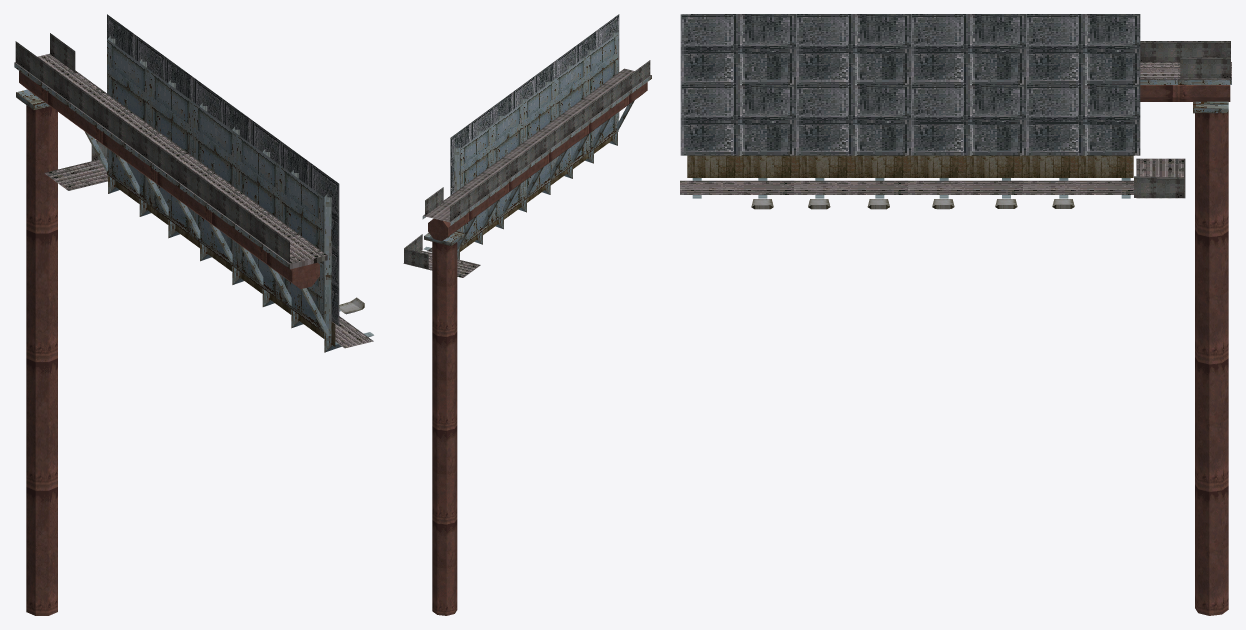
File: billbd1.obj
3 views of the same model, side by side, from view 1: azimuth 30°, elevation 25°; view 2: azimuth 150°, elevation 25°; view 3: azimuth 270°, elevation 25° (orthographic). The views are drawn at different scales.
Parts seen in each view (by area): view 1: BillBd1; view 2: BillBd1; view 3: BillBd1.
Boxes of the visible parts, bbox=[...] form: BillBd1: bbox=[14, 14, 373, 615]; BillBd1: bbox=[403, 14, 651, 615]; BillBd1: bbox=[680, 14, 1231, 615].
Size of the model in its own units: 4.61 by 24.67 by 20.28.
